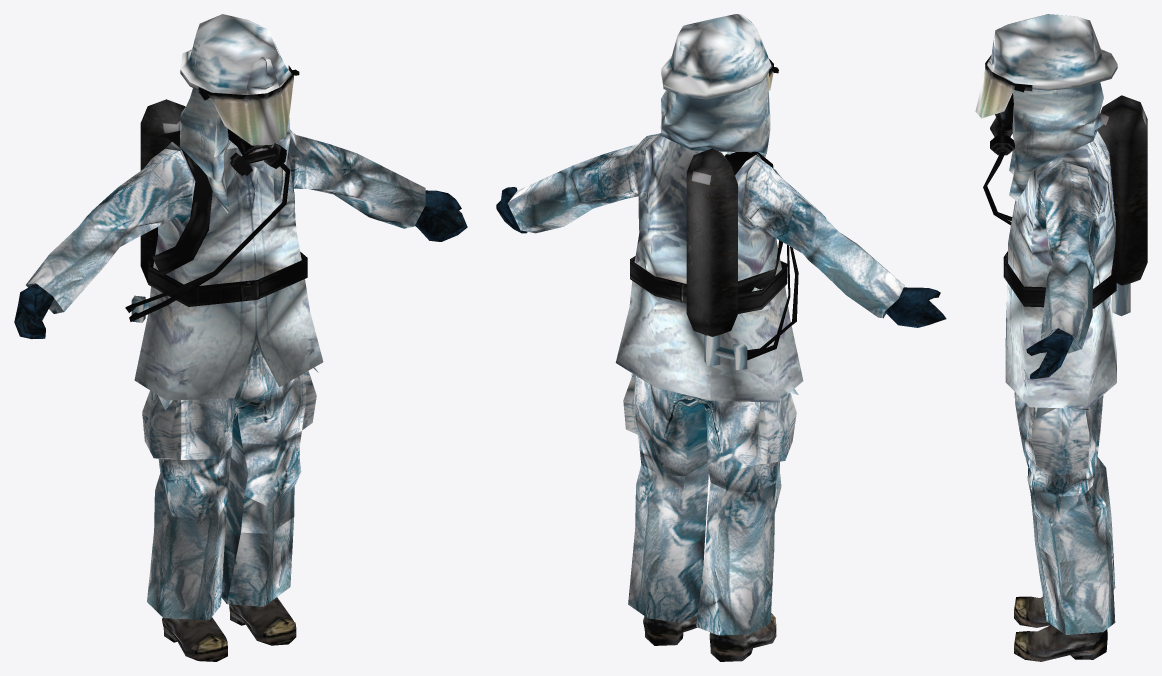
File: IRFF.glb
3 views of the same model, side by side, from view 1: azimuth 30°, elevation 25°; view 2: azimuth 150°, elevation 25°; view 3: azimuth 270°, elevation 25° (orthographic).
Visible parts, largest first — view 1: _IRFF; view 2: _IRFF; view 3: _IRFF.
Part boxes in pixels (x1=…): _IRFF: x1=14, y1=14, x2=467, y2=661; _IRFF: x1=496, y1=14, x2=946, y2=661; _IRFF: x1=975, y1=14, x2=1147, y2=661.
Bounding box in the file's own units: 1.6 × 2.11 × 0.5296.
Materials: 1 (1 with a texture image).
